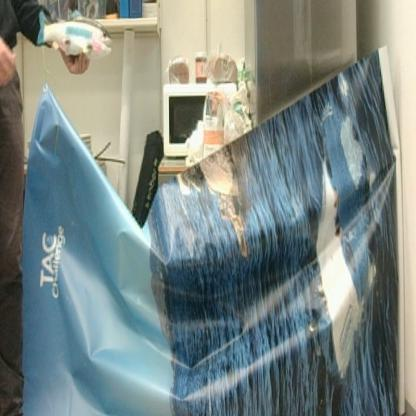rubberfish: (37, 9, 113, 56)
